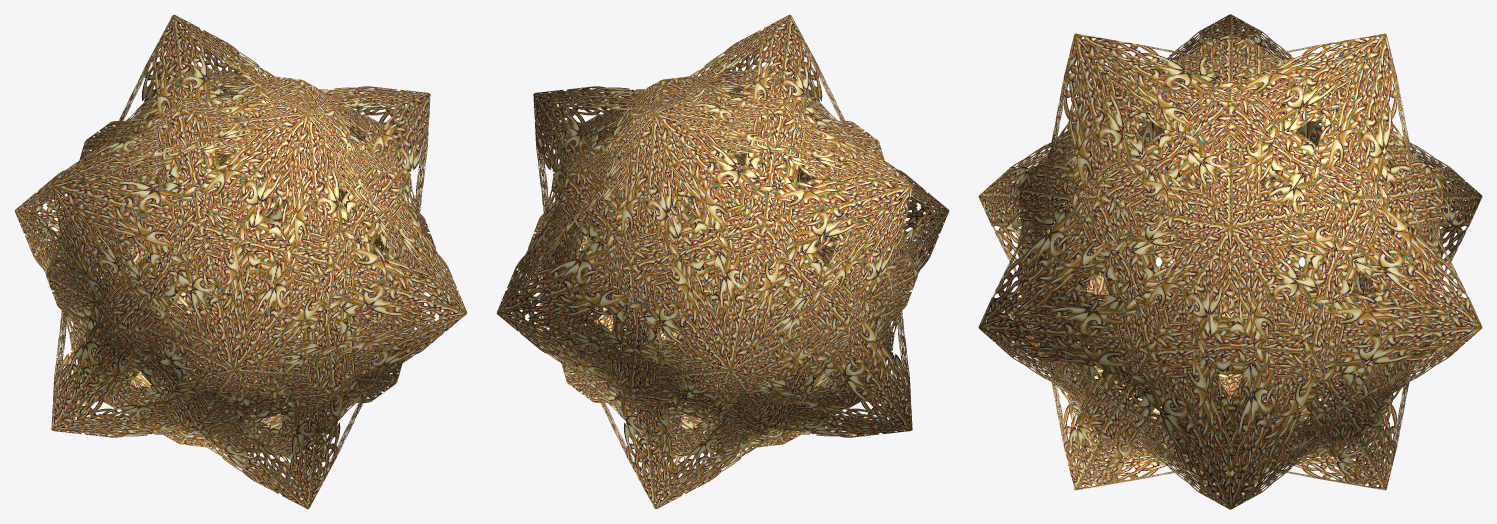
Rendered from 31GreatDitrigonalDodecacronicHexecontahedron.gltf.
The picture shows the model from 3 angles, left to right: view 1: azimuth 30°, elevation 25°; view 2: azimuth 150°, elevation 25°; view 3: azimuth 270°, elevation 25°; orthographic projection. The views are drawn at different scales.
Parts seen in each view (by area): view 1: GreatDitrigonalDodecacronicHexecontahedron12; view 2: GreatDitrigonalDodecacronicHexecontahedron12; view 3: GreatDitrigonalDodecacronicHexecontahedron12.
Part boxes in pixels (x1,y1,x2,y2): GreatDitrigonalDodecacronicHexecontahedron12: [14, 14, 467, 509]; GreatDitrigonalDodecacronicHexecontahedron12: [496, 14, 949, 509]; GreatDitrigonalDodecacronicHexecontahedron12: [978, 14, 1482, 509].
Bounding box in the file's own units: 2.35 × 2.35 × 2.35.
1 material, 1 textured.
